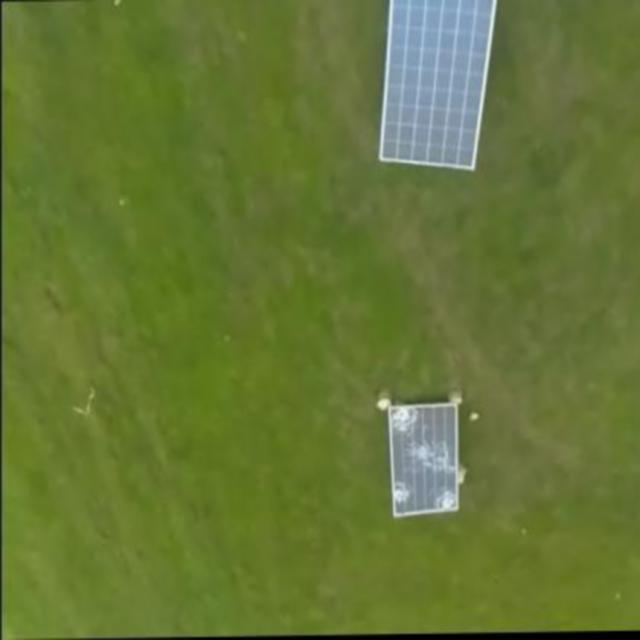cracked: (386, 396, 464, 520)
